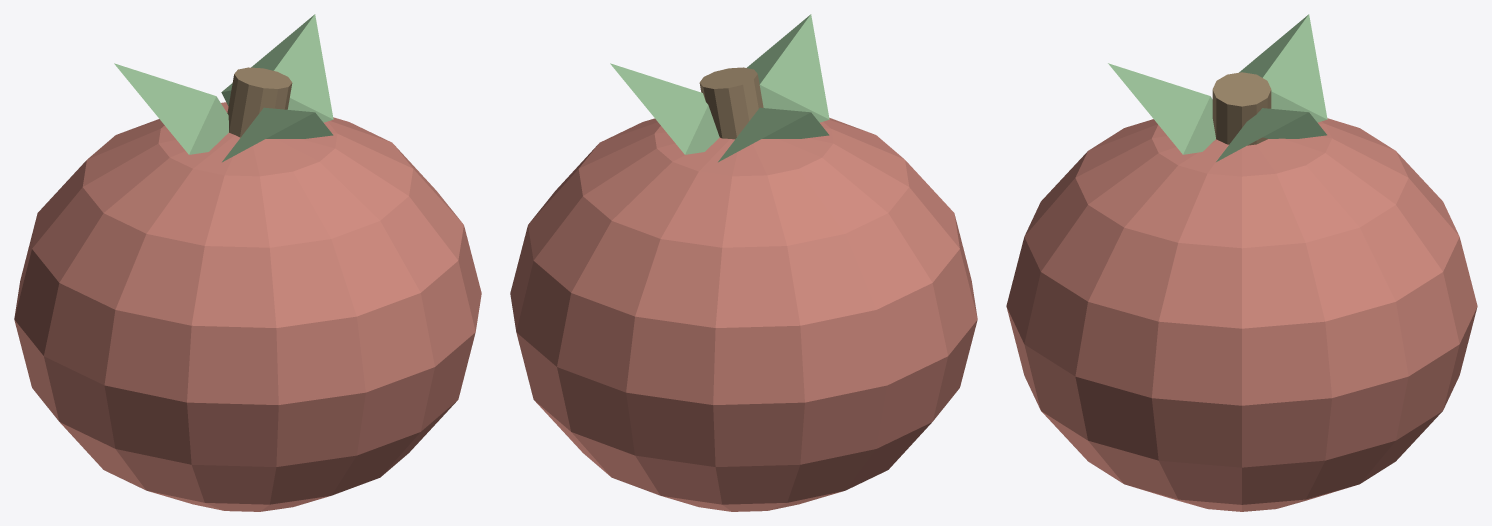
File: apple.glb
The picture shows the model from 3 angles, left to right: view 1: azimuth 30°, elevation 25°; view 2: azimuth 150°, elevation 25°; view 3: azimuth 270°, elevation 25°; orthographic projection.
Parts seen in each view (by area): view 1: apple; view 2: apple; view 3: apple.
Part boxes in pixels (bbox=[...]): apple: bbox=[14, 14, 481, 511]; apple: bbox=[510, 14, 977, 511]; apple: bbox=[1006, 14, 1477, 511].
Bounding box in the file's own units: 0.4 × 0.3976 × 0.4.
